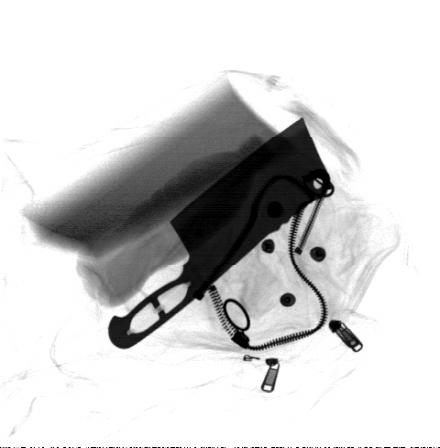Knife: (108, 116, 336, 351)
